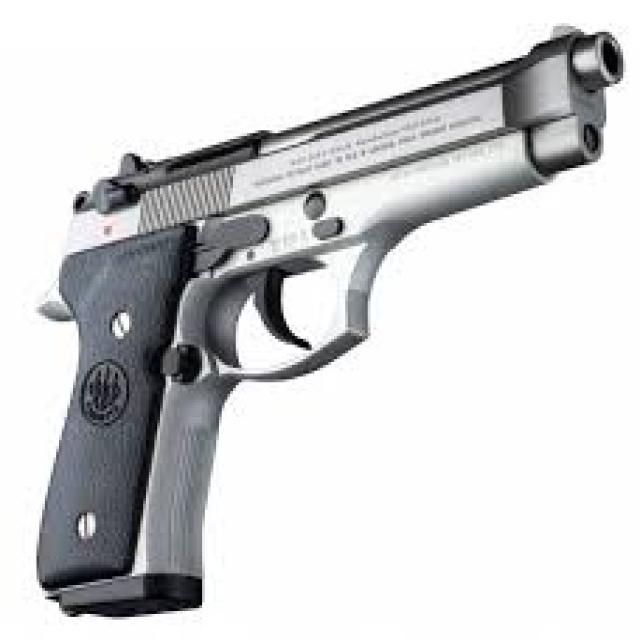pistol: (19, 14, 634, 628)
